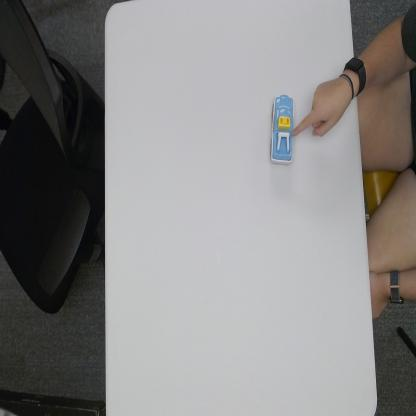Car: (270, 92, 294, 167)
Hand: (292, 76, 351, 140)
